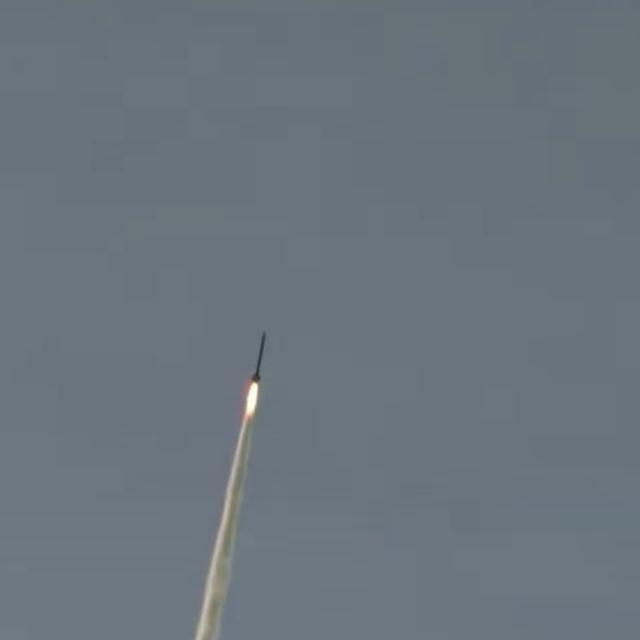rocket: (249, 333, 267, 383)
smoke_trail_with_rocket: (193, 334, 266, 640)
